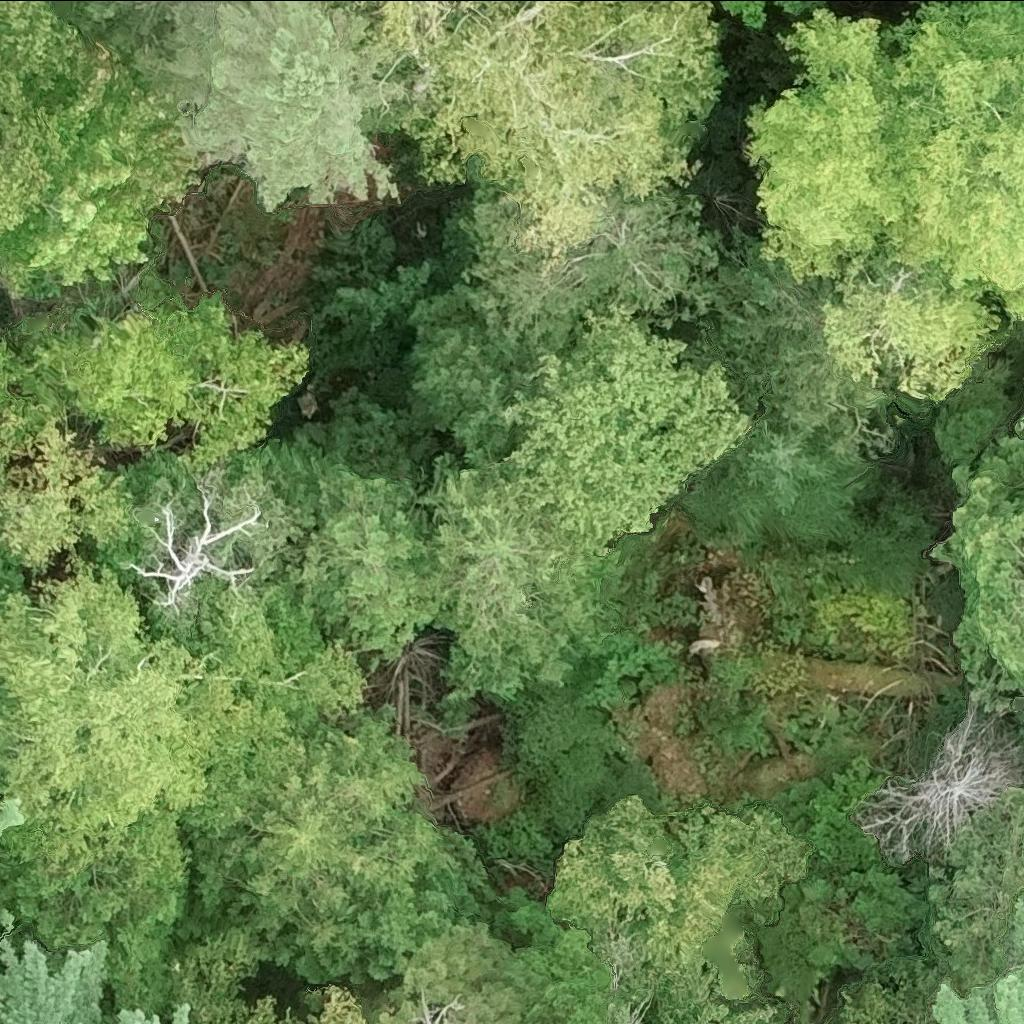crown: (0, 557, 368, 937), (321, 0, 723, 251), (826, 0, 1023, 395), (207, 707, 485, 985), (501, 307, 756, 543), (137, 0, 405, 213), (556, 799, 812, 1018), (4, 37, 219, 285), (455, 173, 715, 353), (33, 290, 308, 457), (424, 464, 613, 702), (747, 12, 900, 280), (853, 692, 1023, 860), (296, 459, 431, 652), (674, 421, 866, 538), (917, 783, 1023, 987), (0, 421, 134, 570), (950, 428, 1023, 688), (0, 0, 76, 237), (376, 922, 532, 1023), (140, 499, 258, 609), (939, 903, 1023, 1023), (0, 361, 69, 501), (0, 941, 117, 1023), (70, 0, 179, 55), (568, 1002, 769, 1023), (314, 985, 364, 1023), (169, 1002, 192, 1023), (120, 1015, 163, 1023), (0, 810, 15, 832), (0, 530, 8, 554), (1016, 857, 1023, 882), (1020, 417, 1023, 427)
